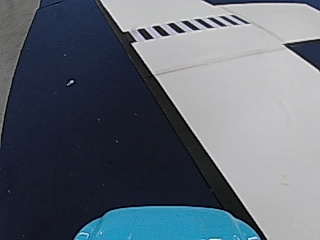CrossWalk: (128, 14, 245, 41)
